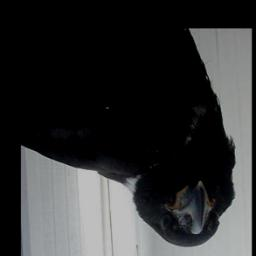Crow: (22, 29, 239, 249)
